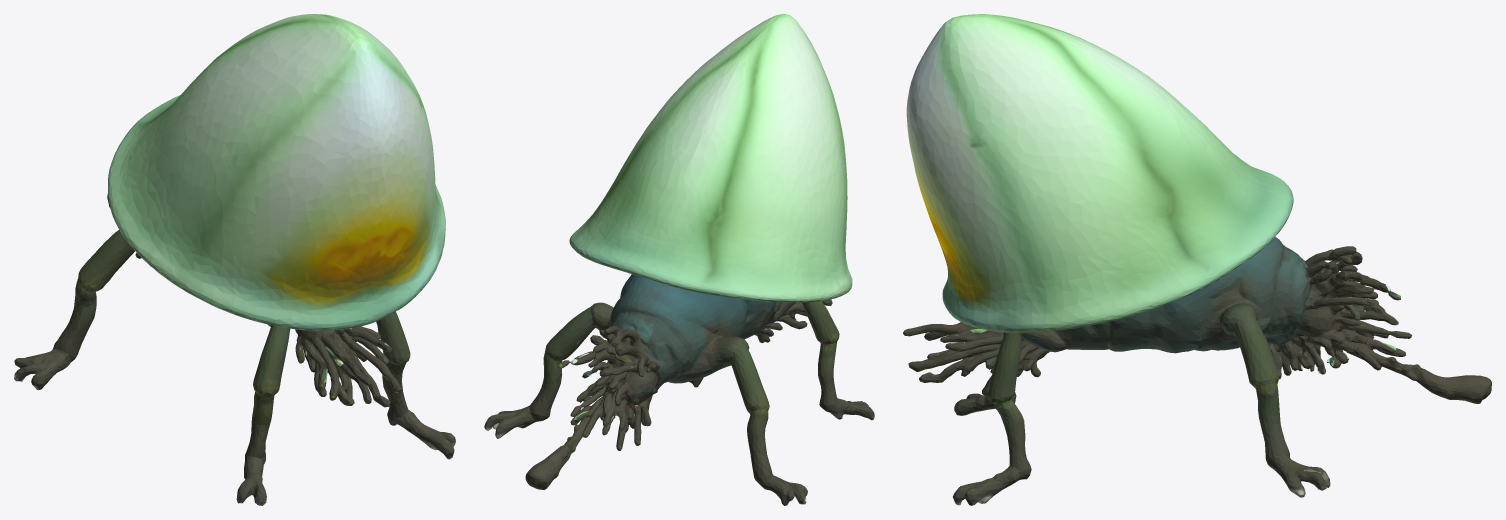
3 views of the same model, side by side, from view 1: azimuth 30°, elevation 25°; view 2: azimuth 150°, elevation 25°; view 3: azimuth 270°, elevation 25° (orthographic). The views are drawn at different scales.
Parts seen in each view (by area): view 1: figure; view 2: figure; view 3: figure.
Part boxes in pixels (x1,y1,x2,y2): figure: (14,14,455,505); figure: (484,14,874,505); figure: (903,14,1491,505).
Size of the model in its own units: 0.7854 by 0.95 by 1.14.
1 material, 1 textured.
